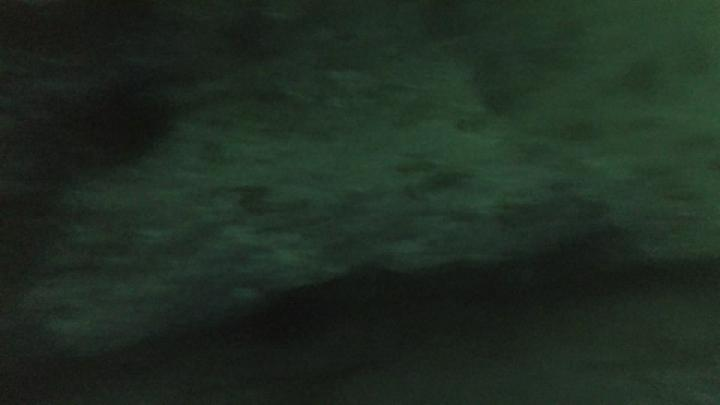echinus: (92, 80, 167, 164)
